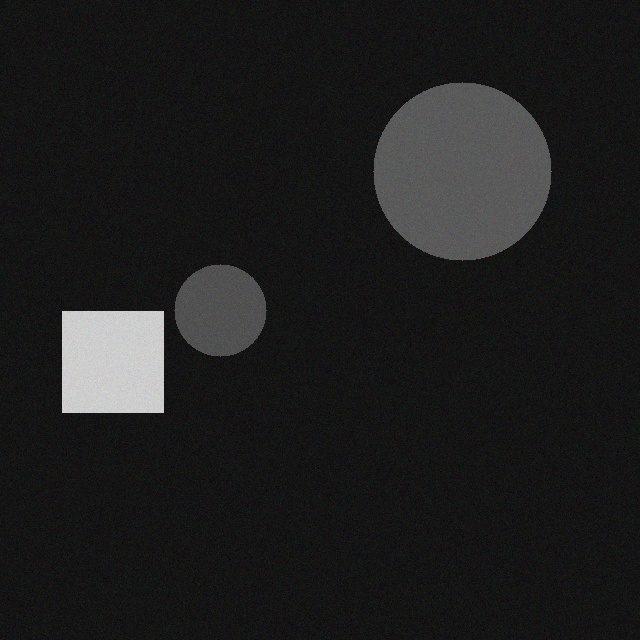circle: (363, 79, 541, 257), (164, 261, 256, 353)
square: (52, 308, 153, 409)
